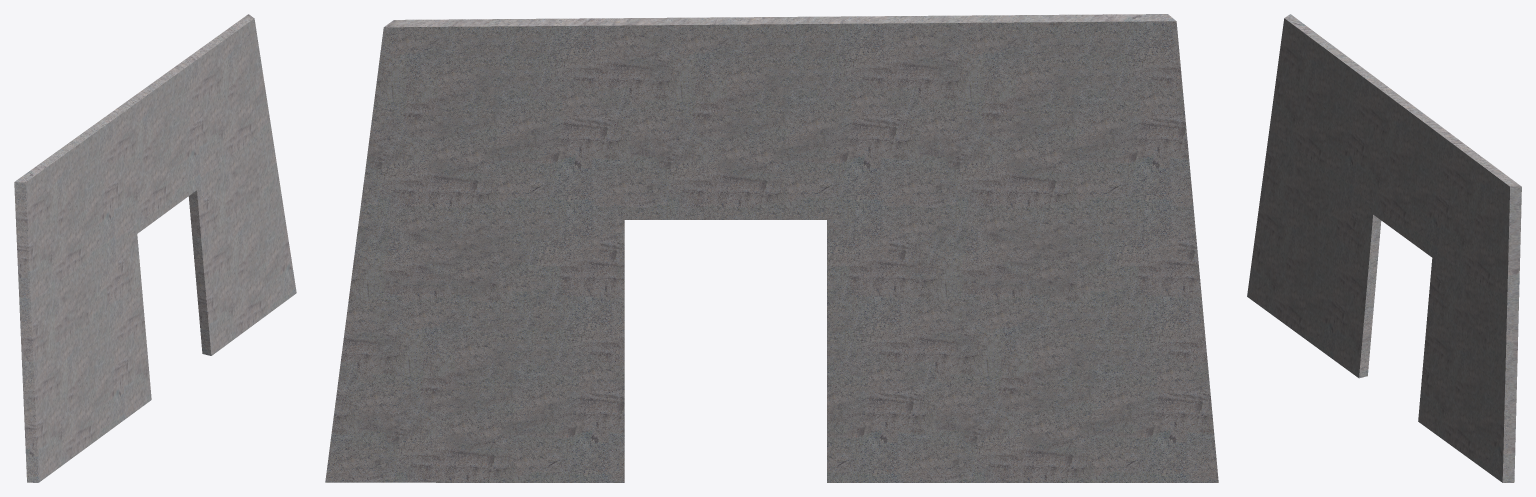
File: WallTrim.fbx
3 renders of one model, left to right at view 1: azimuth 30°, elevation 25°; view 2: azimuth 150°, elevation 25°; view 3: azimuth 270°, elevation 25°, orthographic. The views are drawn at different scales.
Parts seen in each view (by area): view 1: 物件_1; view 2: 物件_1; view 3: 物件_1.
Part boxes in pixels (<box>): 物件_1: <box>14,14,296,482</box>; 物件_1: <box>325,14,1218,482</box>; 物件_1: <box>1247,14,1521,482</box>.
Size of the model in its own units: 7.65 by 5.27 by 4.66.
1 material, 1 textured.
